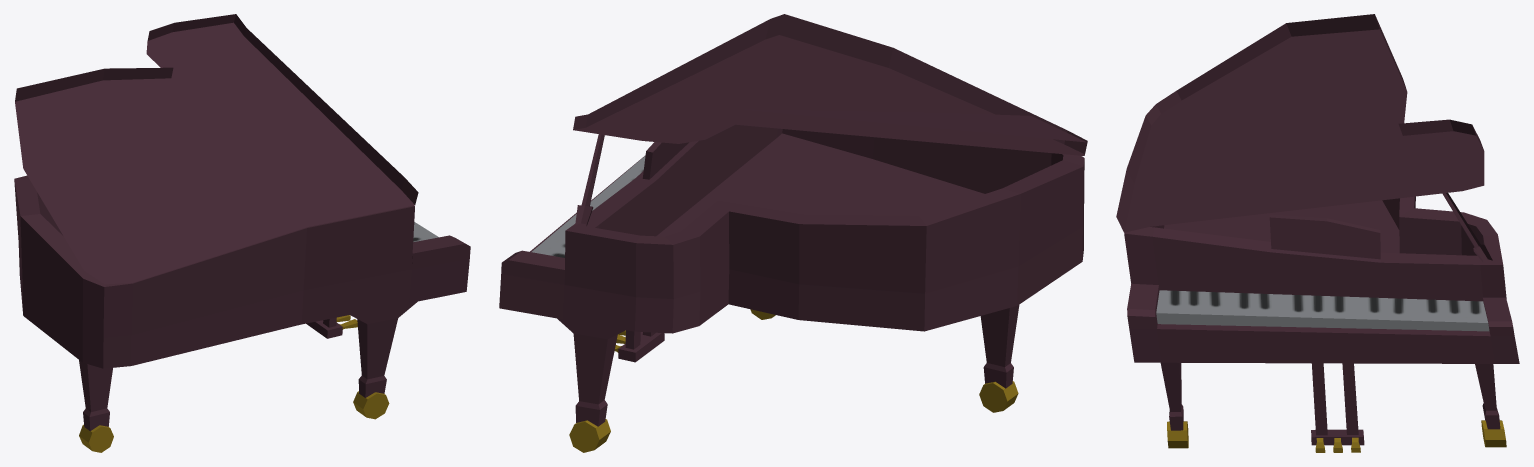
Rendered from Piano.fbx.
The picture shows the model from 3 angles, left to right: view 1: azimuth 30°, elevation 25°; view 2: azimuth 150°, elevation 25°; view 3: azimuth 270°, elevation 25°; orthographic projection. The views are drawn at different scales.
Parts seen in each view (by area): view 1: Piano; view 2: Piano; view 3: Piano.
Boxes of the visible parts, x1=… form: Piano: x1=14, y1=14, x2=470, y2=452; Piano: x1=499, y1=14, x2=1087, y2=452; Piano: x1=1116, y1=14, x2=1519, y2=452.
Bounding box in the file's own units: 192 × 159 × 187.
